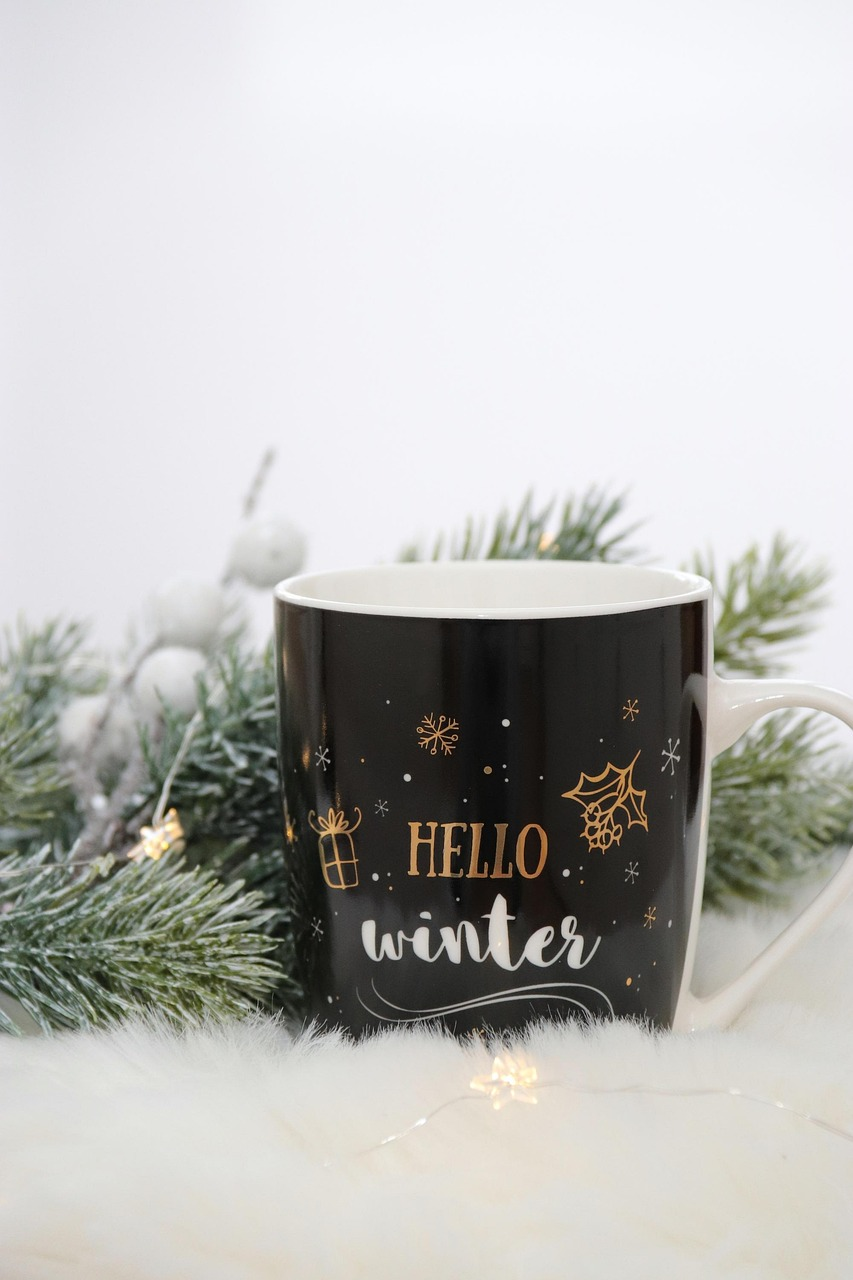mug: (237, 541, 853, 1079)
